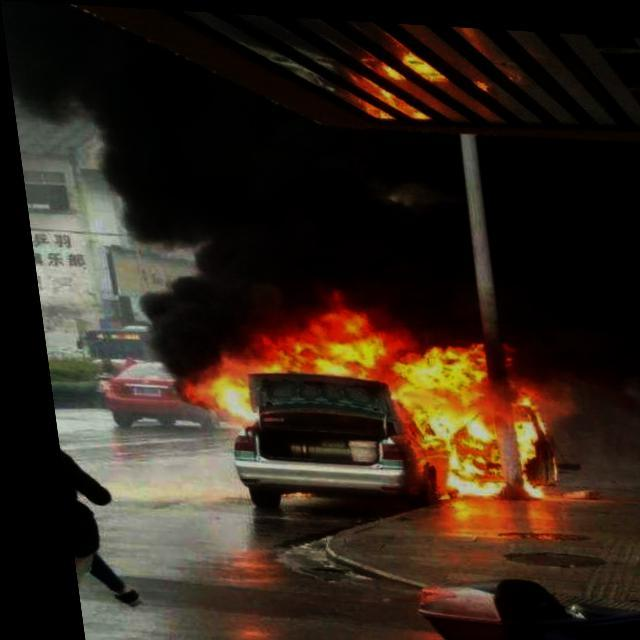Fire: (172, 280, 545, 498)
